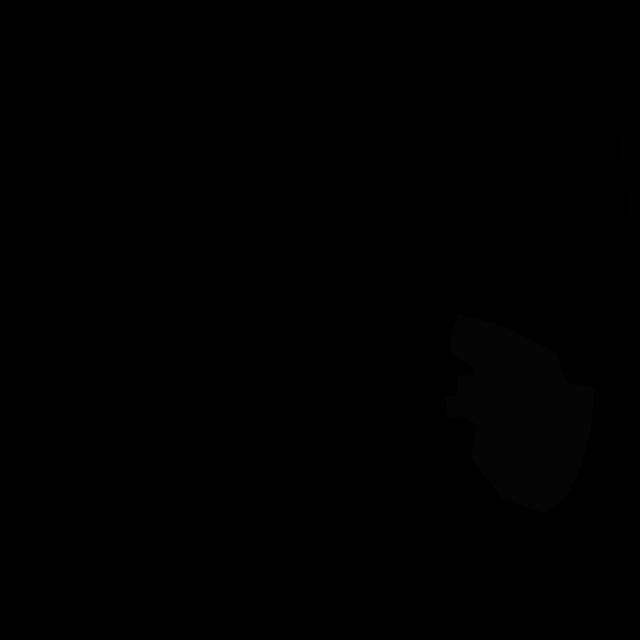rigid_plastic: (617, 125, 640, 222)
soft_plastic: (445, 314, 594, 513)
